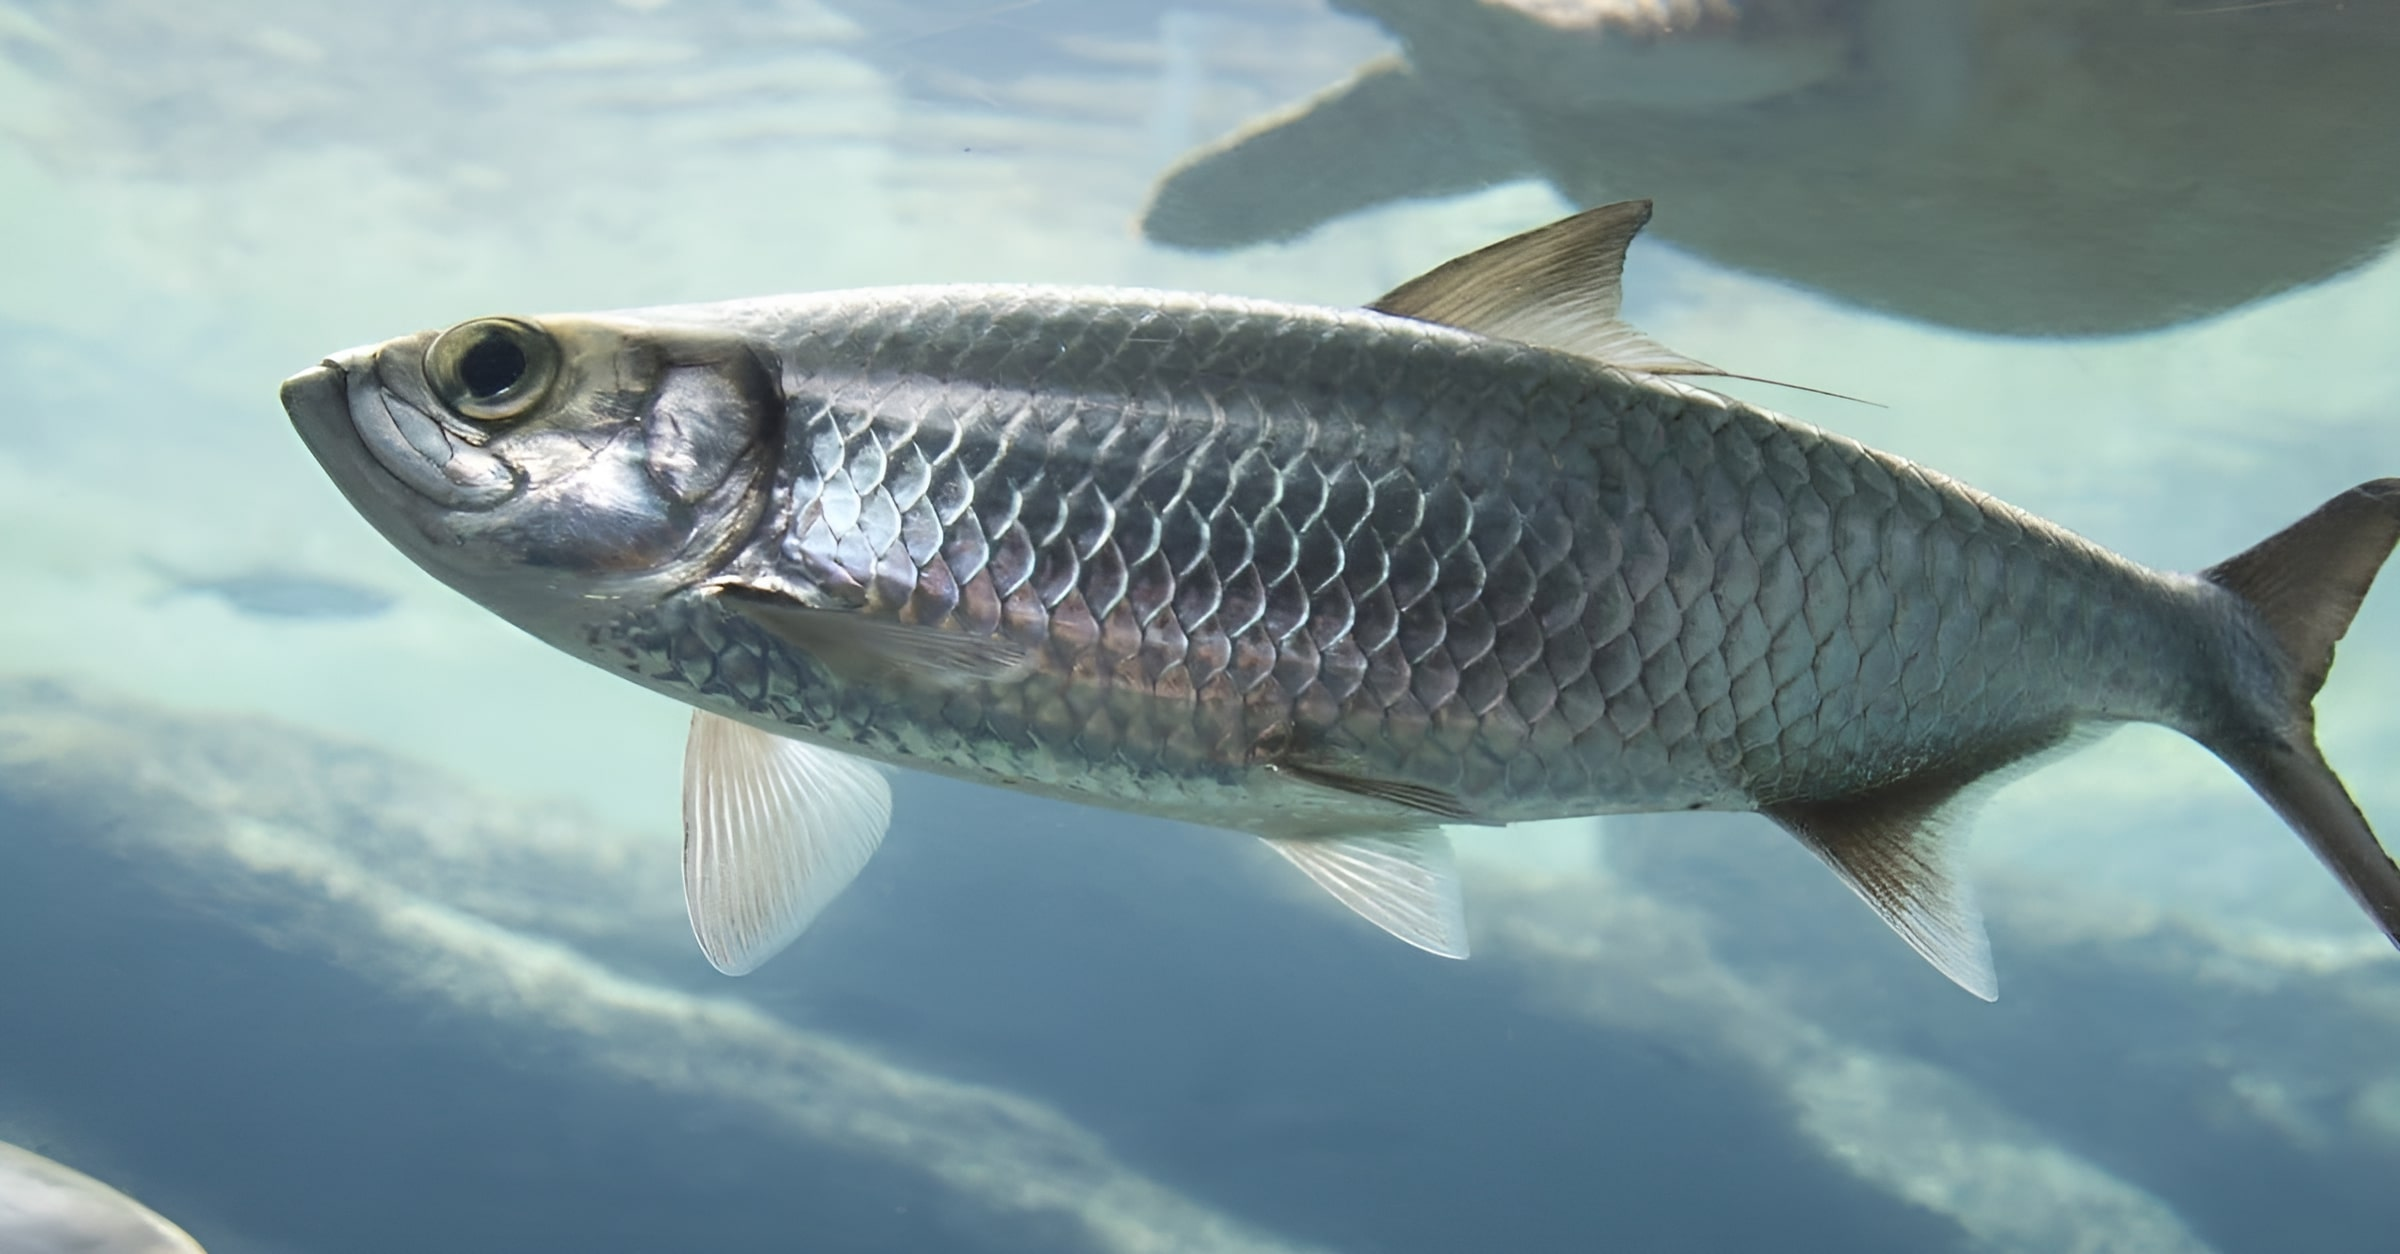Pecific herring: (276, 190, 2400, 1003)
